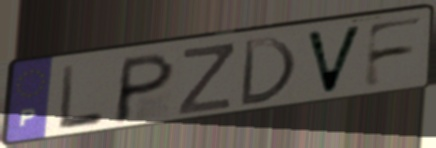D: (236, 35, 300, 108)
F: (360, 14, 428, 92)
L: (56, 63, 106, 133)
P: (109, 50, 178, 126)
V: (302, 23, 366, 97)
Z: (176, 41, 236, 118)
